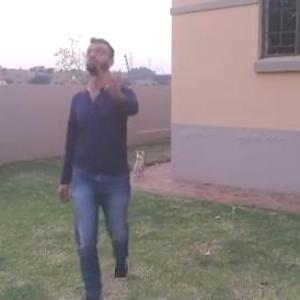takeoff-hand: (104, 71, 127, 102)
